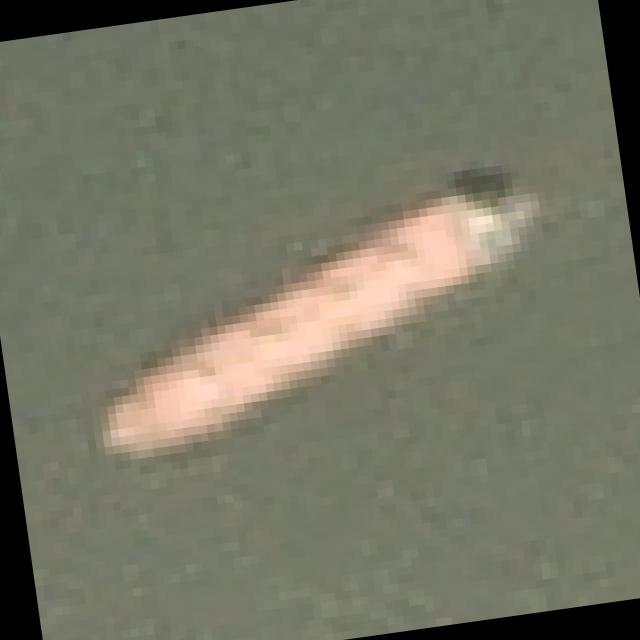ship: (36, 153, 592, 520)
